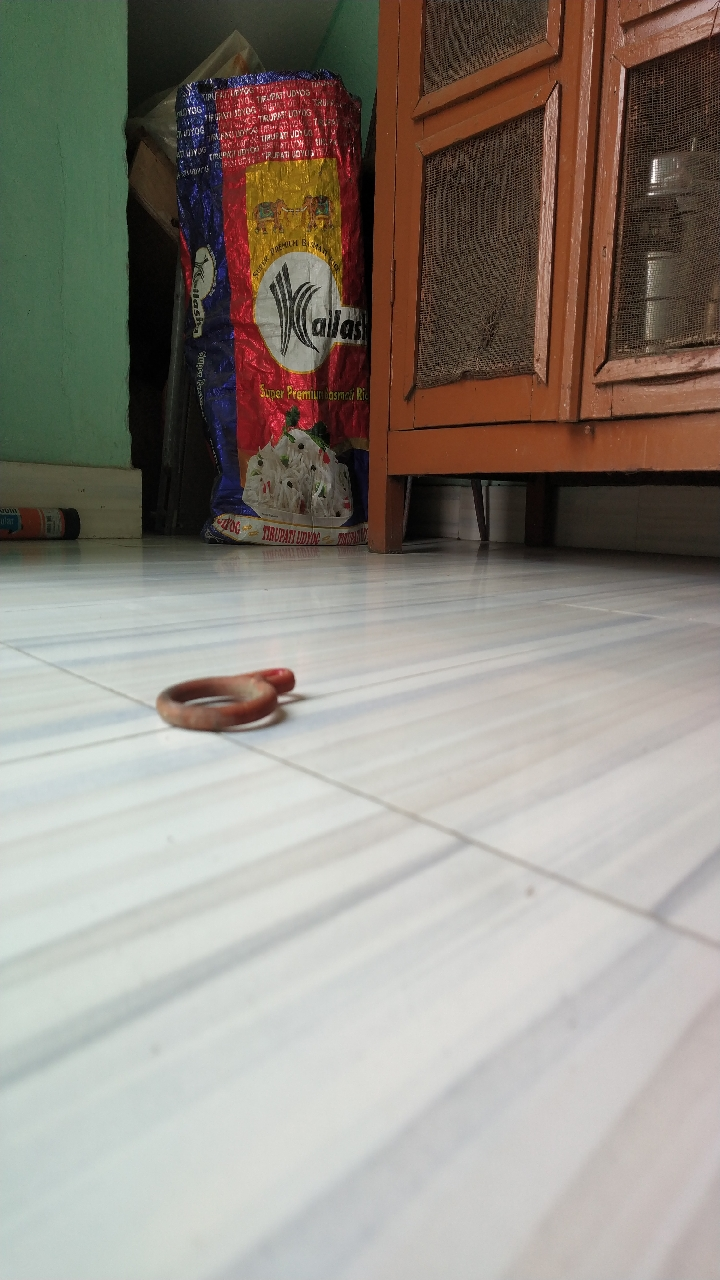Furnitures: (360, 157, 720, 550)
garments: (148, 661, 309, 740)
